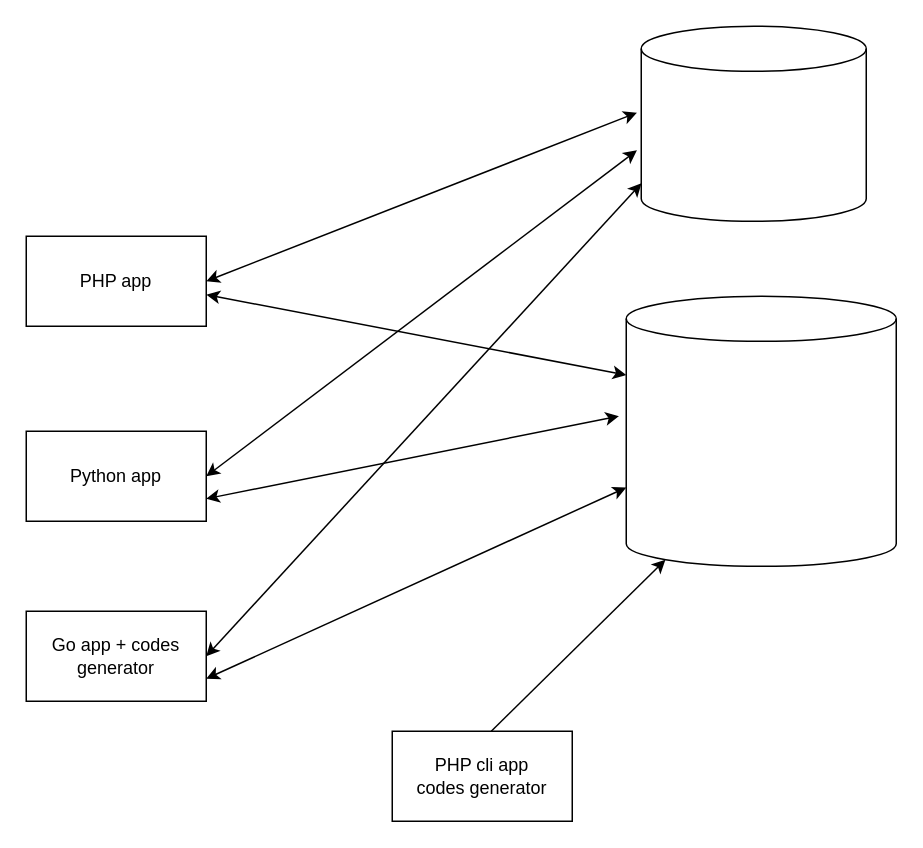
This 923x848 diagram has some shape labels left out. Here are the shapes that lost their labels. From the top down, the centre of each, then its label:
At point (753, 123): "Redis storage - shortURL code is key".
At point (760, 430): "SQL storage: - metadata - unique codes for short URLs".
